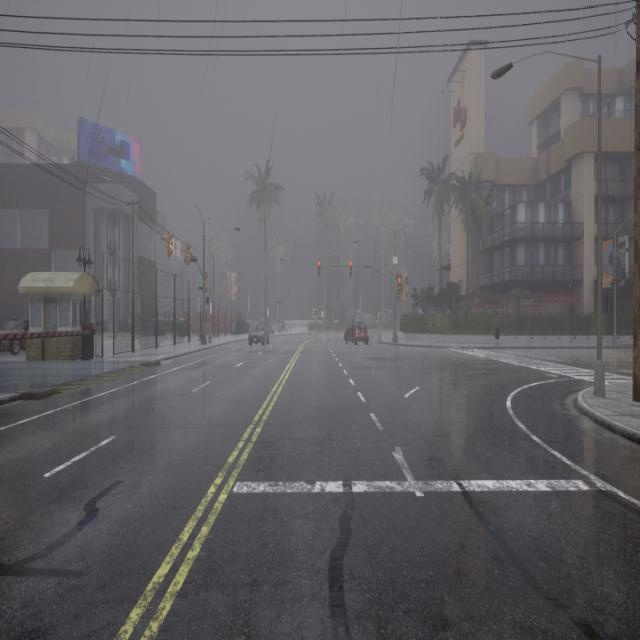bien_chi_dan: (168, 232, 173, 256), (186, 242, 191, 264), (397, 276, 402, 294), (317, 258, 321, 278), (348, 258, 352, 278), (205, 272, 208, 292), (317, 260, 321, 266), (398, 277, 402, 283), (349, 260, 352, 266), (169, 243, 172, 248), (188, 253, 190, 257), (205, 282, 207, 285)
